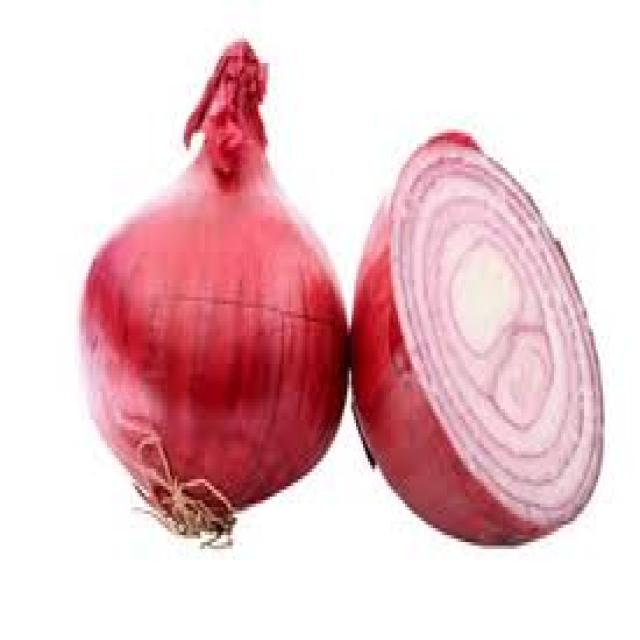onion: (61, 28, 610, 567)
